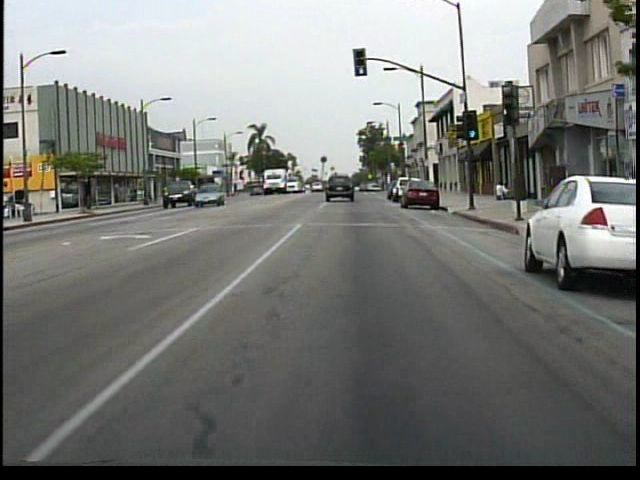person: (488, 177, 505, 202), (1, 190, 13, 223)
